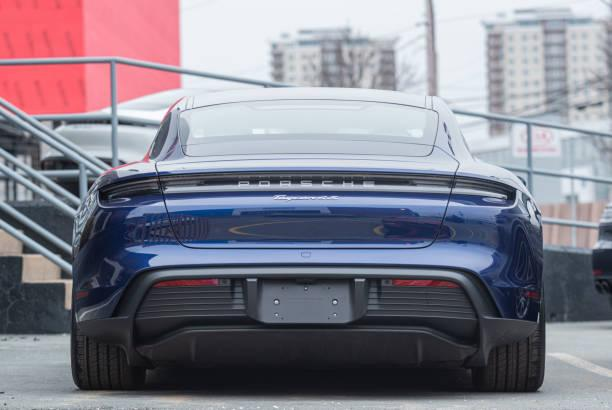porsche: (223, 171, 381, 193)
